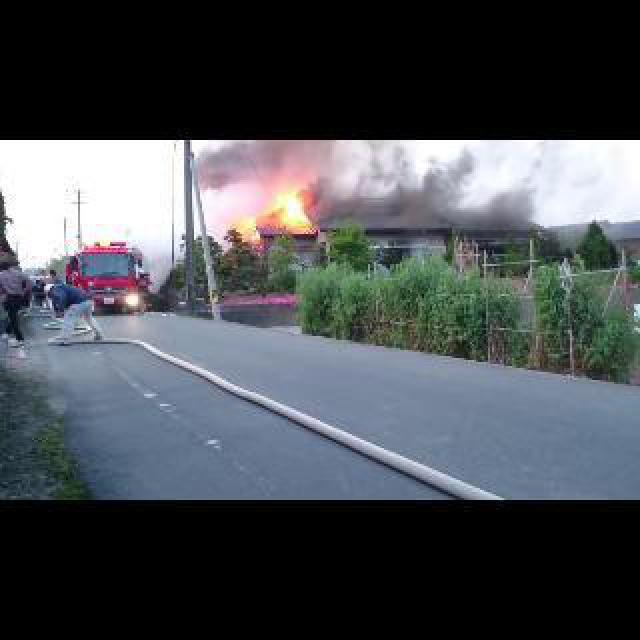fire: (280, 188, 308, 220), (234, 218, 256, 236)
smoke: (306, 140, 556, 226), (180, 140, 302, 196)
